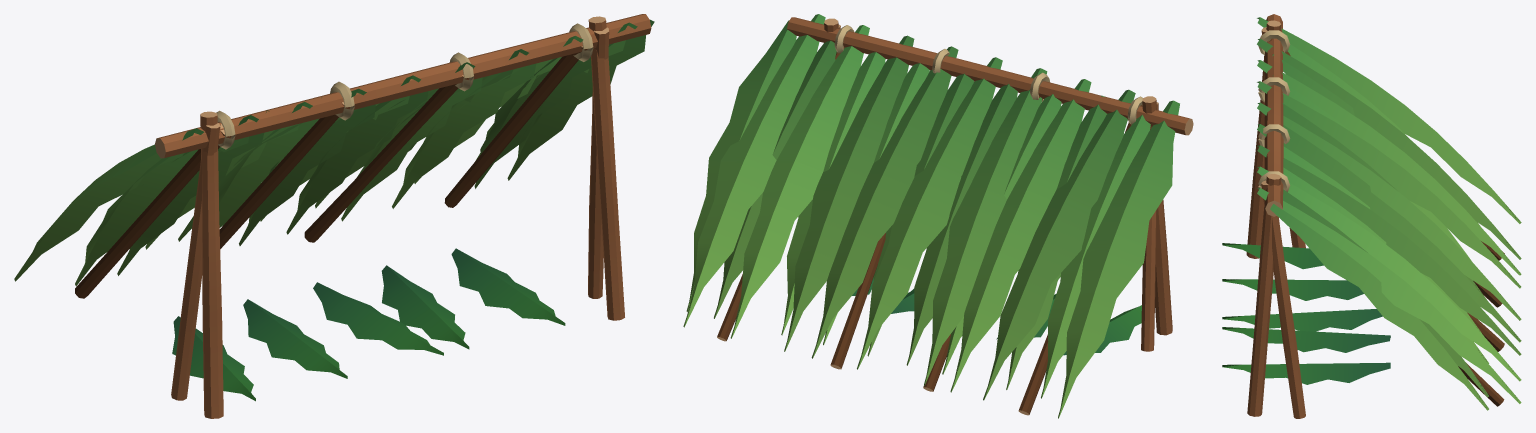
Rendered from leanto_shelter.glb.
The picture shows the model from 3 angles, left to right: view 1: azimuth 30°, elevation 25°; view 2: azimuth 150°, elevation 25°; view 3: azimuth 270°, elevation 25°; orthographic projection. The views are drawn at different scales.
Visible parts, largest first — view 1: leanto_shelter; view 2: leanto_shelter; view 3: leanto_shelter.
Boxes of the visible parts, bbox=[...] form: leanto_shelter: bbox=[14, 14, 654, 418]; leanto_shelter: bbox=[683, 14, 1193, 418]; leanto_shelter: bbox=[1222, 14, 1521, 418].
Size of the model in its own units: 3.86 by 2.01 by 2.31.
